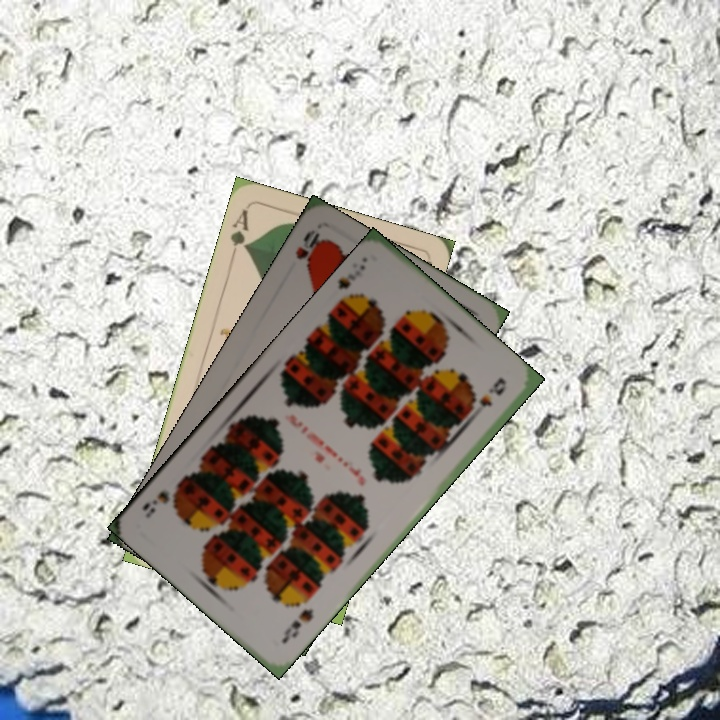GA: (226, 205, 252, 263)
HO: (291, 225, 326, 269)
S9: (277, 604, 317, 647), (333, 260, 369, 292)
